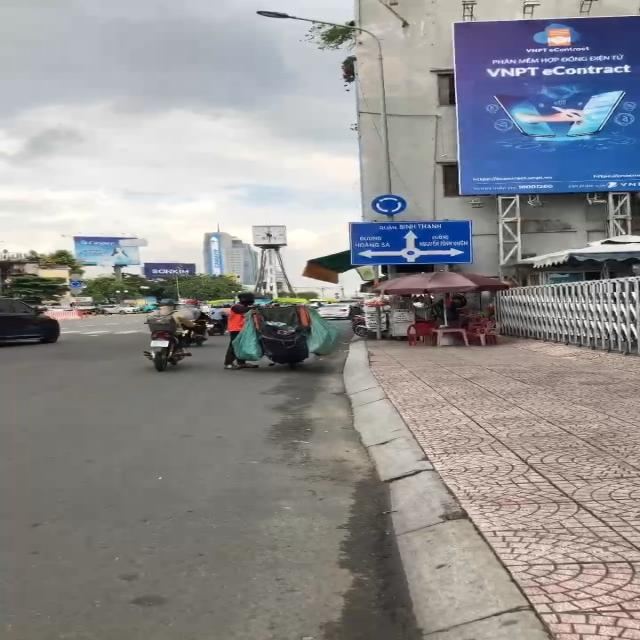Bien bao noi giao nhau chay theo vong xuyen: (370, 193, 410, 216)
